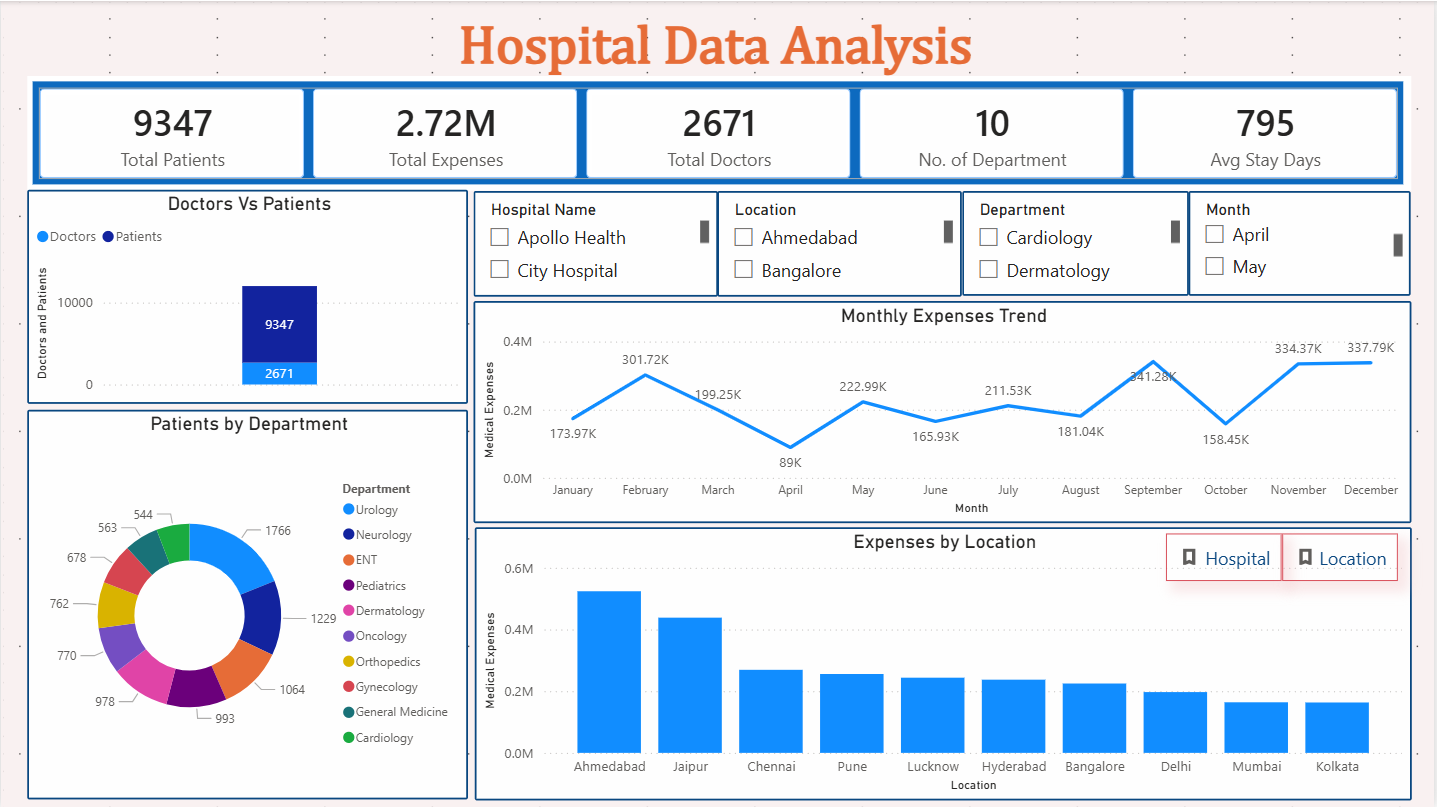

The dashboard page shown, as its layout file describes it:
{"tool":"powerbi","page":{"name":"Page 1","canvas":[1280,720],"ordinal":0},"visuals":[{"type":"cardVisual","fields":{"Data":["Sum(HospitalData.Patients Count)","Sum(HospitalData. Medical Expenses )","Sum(HospitalData.Doctors Count)","Count(HospitalData.Department)","Sum(HospitalData.Avg Stay Days)"]},"box":[23.6,66.4,1235.7,102.1],"z":0},{"type":"textbox","box":[377.8,8.6,521.8,72.6],"z":1000},{"type":"columnChart","title":"Doctors Vs Patients","fields":{"Y":["Sum(HospitalData.Doctors Count)","Sum(HospitalData.Patients Count)"]},"box":[23.6,169.1,393.6,190.9],"z":2000},{"type":"donutChart","title":"Patients by Department","fields":{"Category":["HospitalData.Department"],"Y":["Sum(HospitalData.Patients Count)"]},"box":[23.6,365.5,393.6,348.2],"z":3000},{"type":"clusteredColumnChart","title":"Expenses  by Location","fields":{"Category":["HospitalData.Location"],"Y":["Sum(HospitalData. Medical Expenses )"]},"box":[422.9,470,836.4,244.3],"z":4000},{"type":"lineChart","title":"Monthly Expenses  Trend","fields":{"Category":["HospitalData.Admission Date.Variation.Date Hierarchy.Month"],"Y":["Sum(HospitalData. Medical Expenses )"]},"box":[422,267.9,837.2,198.7],"z":6000},{"type":"slicer","fields":{"Values":["HospitalData.Location"]},"box":[640.1,169.4,218.2,94.5],"z":7000},{"type":"slicer","fields":{"Values":["HospitalData.Department"]},"box":[858.4,169.7,202,93.8],"z":8000},{"type":"slicer","fields":{"Values":["HospitalData.Hospital Name"]},"box":[421.9,169.4,218.2,94.5],"z":9000},{"type":"slicer","fields":{"Values":["HospitalData.Admission Date.Variation.Date Hierarchy.Month"]},"box":[1060.5,169.7,198.7,93.8],"z":10000},{"type":"actionButton","box":[1040.5,475.7,103.5,42.4],"z":11000},{"type":"actionButton","box":[1144,475.7,103.5,42.4],"z":12000}]}

Visuals, with their boxes in screenshot pixels (x1, y1, x2, y2), scaled from the page's 1280x720 canvas onto the 1437x807 screenshot:
cardVisual - Sum(HospitalData.Patients Count) x Sum(HospitalData. Medical Expenses ): {"x1": 26, "y1": 74, "x2": 1414, "y2": 189}
textbox: {"x1": 424, "y1": 10, "x2": 1010, "y2": 91}
"Doctors Vs Patients" columnChart: {"x1": 26, "y1": 190, "x2": 468, "y2": 404}
"Patients by Department" donutChart: {"x1": 26, "y1": 410, "x2": 468, "y2": 800}
"Expenses  by Location" clusteredColumnChart: {"x1": 475, "y1": 527, "x2": 1414, "y2": 801}
"Monthly Expenses  Trend" lineChart: {"x1": 474, "y1": 300, "x2": 1414, "y2": 523}
slicer - HospitalData.Location: {"x1": 719, "y1": 190, "x2": 964, "y2": 296}
slicer - HospitalData.Department: {"x1": 964, "y1": 190, "x2": 1190, "y2": 295}
slicer - HospitalData.Hospital Name: {"x1": 474, "y1": 190, "x2": 719, "y2": 296}
slicer - HospitalData.Admission Date.Variation.Date Hierarchy.Month: {"x1": 1191, "y1": 190, "x2": 1414, "y2": 295}
actionButton: {"x1": 1168, "y1": 533, "x2": 1284, "y2": 581}
actionButton: {"x1": 1284, "y1": 533, "x2": 1401, "y2": 581}
